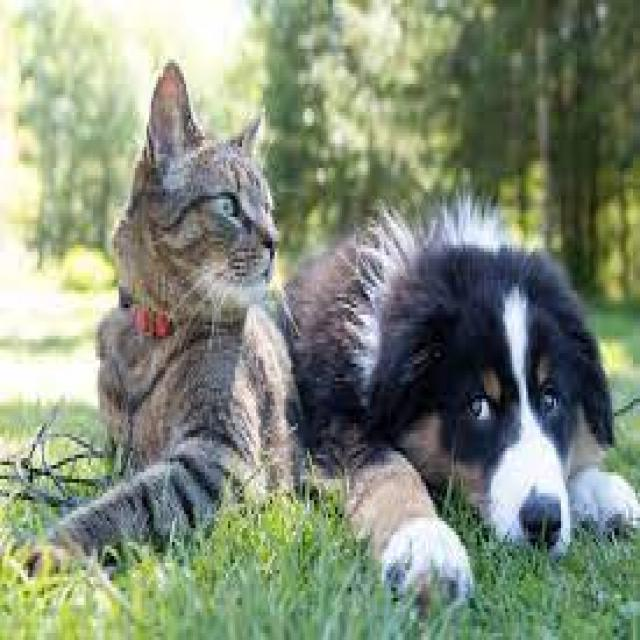cat: (9, 60, 300, 582)
dog: (291, 175, 640, 612)
